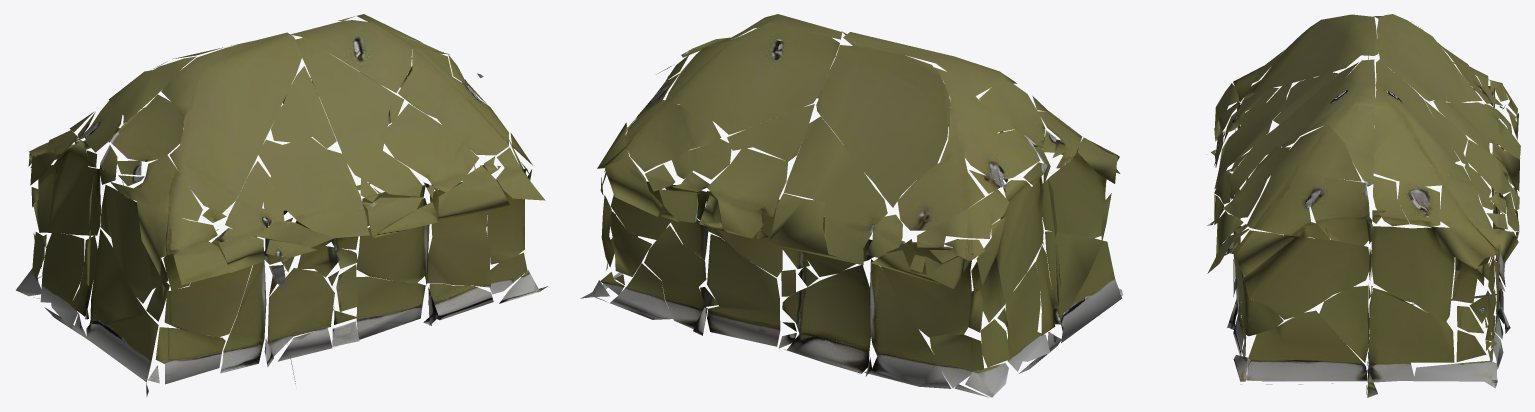
The model's file is prop_expedition_tent_LOD3.glb.
3 renders of one model, left to right at view 1: azimuth 30°, elevation 25°; view 2: azimuth 150°, elevation 25°; view 3: azimuth 270°, elevation 25°, orthographic. The views are drawn at different scales.
Parts seen in each view (by area): view 1: tripo_node_f8e14f25-867f-4e02-b513-935ae1ca1cbb; view 2: tripo_node_f8e14f25-867f-4e02-b513-935ae1ca1cbb; view 3: tripo_node_f8e14f25-867f-4e02-b513-935ae1ca1cbb.
Part boxes in pixels (box(x1,y1,x2,y2)): tripo_node_f8e14f25-867f-4e02-b513-935ae1ca1cbb: box(16, 14, 547, 396); tripo_node_f8e14f25-867f-4e02-b513-935ae1ca1cbb: box(580, 14, 1123, 397); tripo_node_f8e14f25-867f-4e02-b513-935ae1ca1cbb: box(1206, 14, 1520, 397).
Size of the model in its own units: 0.9808 by 0.5515 by 0.697.
1 material, 1 textured.
